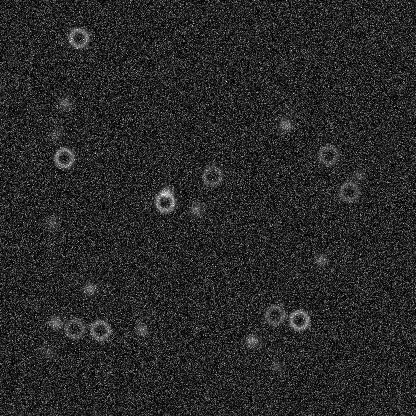Ring: (200, 163, 224, 187), (286, 307, 310, 331), (52, 145, 76, 169), (316, 142, 340, 166), (152, 189, 176, 213), (62, 316, 86, 340), (88, 317, 112, 341), (262, 302, 286, 326), (336, 179, 360, 203), (66, 25, 90, 49)
Spot: (349, 167, 365, 183), (56, 95, 72, 111), (47, 314, 63, 330), (141, 305, 157, 321), (81, 280, 97, 296), (188, 201, 204, 217), (133, 321, 149, 337), (283, 103, 299, 119), (47, 126, 63, 142), (39, 344, 55, 360), (243, 332, 259, 348), (44, 215, 60, 231), (313, 251, 329, 267), (277, 116, 293, 132), (158, 183, 174, 199), (269, 358, 285, 374)
